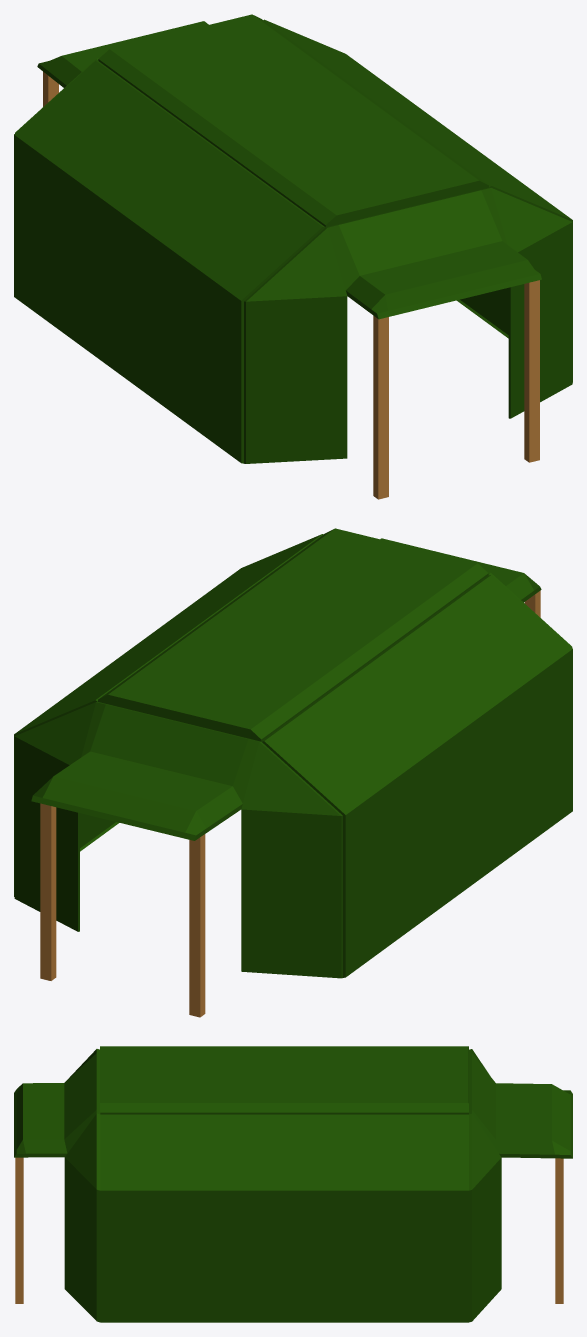
Rendered from tent.fbx.
3 renders of one model, top to bottom at view 1: azimuth 30°, elevation 25°; view 2: azimuth 150°, elevation 25°; view 3: azimuth 270°, elevation 25°, orthographic. The views are drawn at different scales.
Parts seen in each view (by area): view 1: Cube.009; view 2: Cube.009; view 3: Cube.009.
Part boxes in pixels (<box>): Cube.009: <box>14,14,572,499</box>; Cube.009: <box>14,528,572,1017</box>; Cube.009: <box>14,1046,572,1322</box>.
Bounding box in the file's own units: 573 × 402 × 1029.
